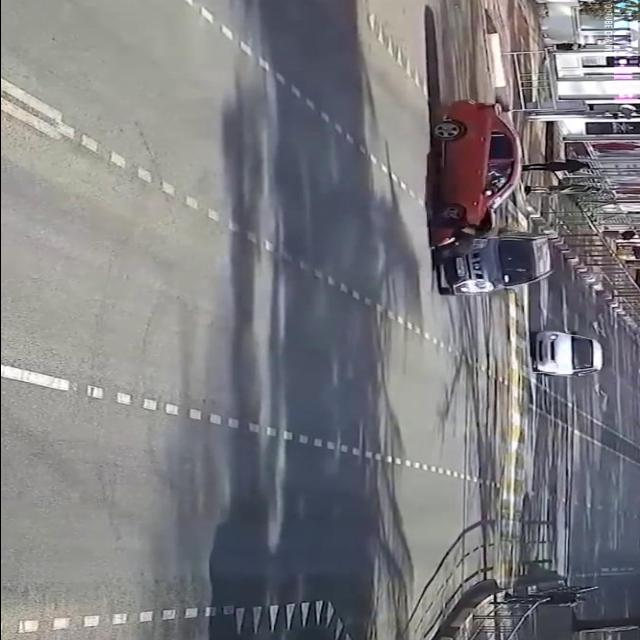accident: (433, 89, 567, 299)
